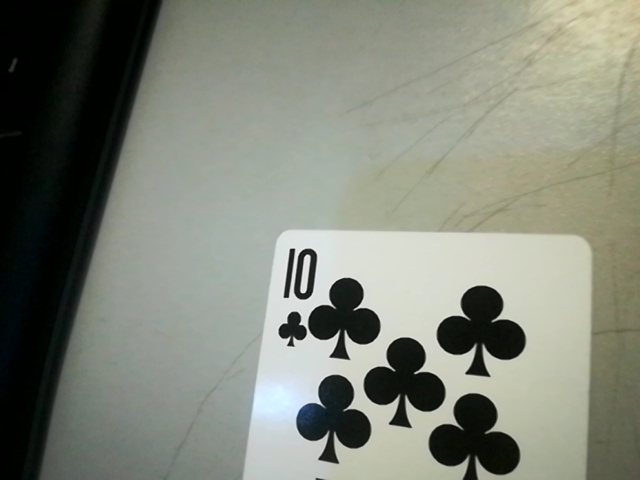mh 10: (265, 235, 321, 352)
